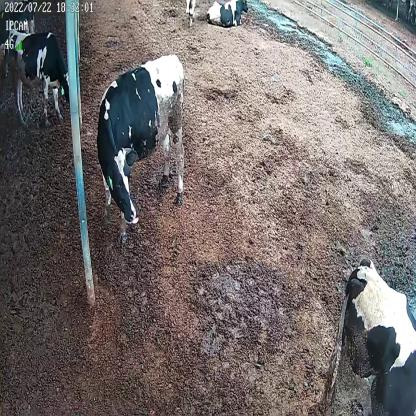cow: (96, 52, 184, 237), (8, 28, 74, 126), (207, 0, 250, 28)
